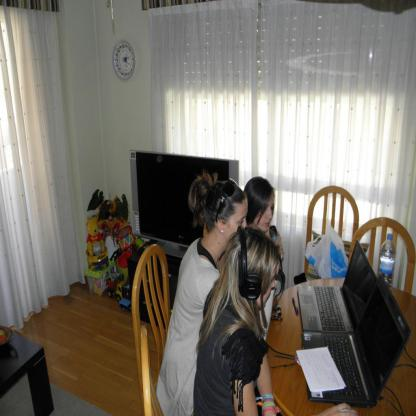board: (301, 277, 410, 401), (297, 240, 378, 333), (378, 233, 395, 288)
